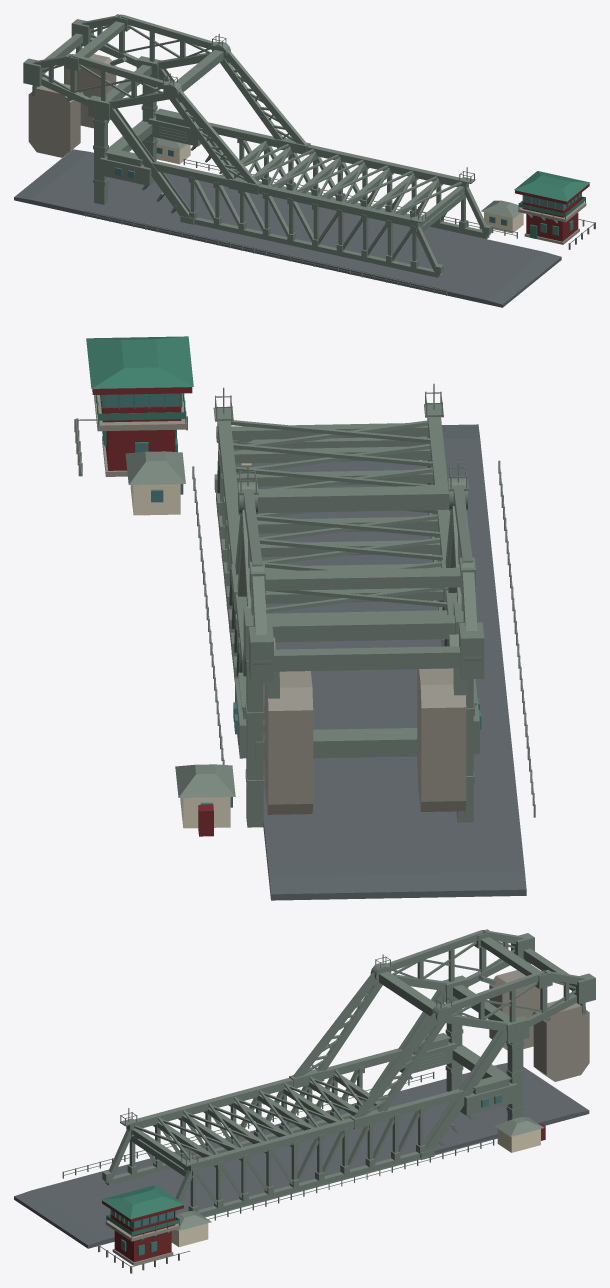
File: lefty-odoul-bridge-near.glb
3 views of the same model, one above another, from view 1: azimuth 30°, elevation 25°; view 2: azimuth 150°, elevation 25°; view 3: azimuth 270°, elevation 25° (orthographic). The views are drawn at different scales.
Visible parts, largest first — view 1: lefty-odoul-bridge-0-steel, lefty-odoul-bridge-0-asphalt, lefty-odoul-bridge-0-concrete, lefty-odoul-bridge-0-trim, lefty-odoul-bridge-0-house, lefty-odoul-bridge-0-cream, lefty-odoul-bridge-0-glass; view 2: lefty-odoul-bridge-0-steel, lefty-odoul-bridge-0-asphalt, lefty-odoul-bridge-0-concrete, lefty-odoul-bridge-0-trim, lefty-odoul-bridge-0-house, lefty-odoul-bridge-0-cream, lefty-odoul-bridge-0-glass; view 3: lefty-odoul-bridge-0-steel, lefty-odoul-bridge-0-asphalt, lefty-odoul-bridge-0-concrete, lefty-odoul-bridge-0-trim, lefty-odoul-bridge-0-house, lefty-odoul-bridge-0-cream, lefty-odoul-bridge-0-glass.
Part boxes in pixels (left/top/right/bottom): lefty-odoul-bridge-0-steel: left=23, top=14, right=595, bottom=295; lefty-odoul-bridge-0-asphalt: left=14, top=149, right=561, bottom=307; lefty-odoul-bridge-0-concrete: left=28, top=54, right=586, bottom=244; lefty-odoul-bridge-0-trim: left=514, top=171, right=590, bottom=238; lefty-odoul-bridge-0-house: left=515, top=184, right=589, bottom=241; lefty-odoul-bridge-0-cream: left=156, top=144, right=523, bottom=233; lefty-odoul-bridge-0-glass: left=115, top=147, right=580, bottom=234; lefty-odoul-bridge-0-steel: left=74, top=383, right=535, bottom=827; lefty-odoul-bridge-0-asphalt: left=235, top=424, right=526, bottom=900; lefty-odoul-bridge-0-concrete: left=94, top=393, right=466, bottom=814; lefty-odoul-bridge-0-trim: left=86, top=336, right=193, bottom=452; lefty-odoul-bridge-0-house: left=92, top=387, right=213, bottom=836; lefty-odoul-bridge-0-cream: left=130, top=484, right=230, bottom=828; lefty-odoul-bridge-0-glass: left=103, top=393, right=481, bottom=807; lefty-odoul-bridge-0-steel: left=62, top=929, right=595, bottom=1273; lefty-odoul-bridge-0-asphalt: left=14, top=1063, right=589, bottom=1248; lefty-odoul-bridge-0-concrete: left=105, top=970, right=589, bottom=1265; lefty-odoul-bridge-0-trim: left=101, top=1185, right=184, bottom=1255; lefty-odoul-bridge-0-house: left=102, top=1123, right=545, bottom=1262; lefty-odoul-bridge-0-cream: left=171, top=1128, right=540, bottom=1246; lefty-odoul-bridge-0-glass: left=112, top=1094, right=501, bottom=1254.
Size of the model in its own units: 74.96 by 26.35 by 86.65.
